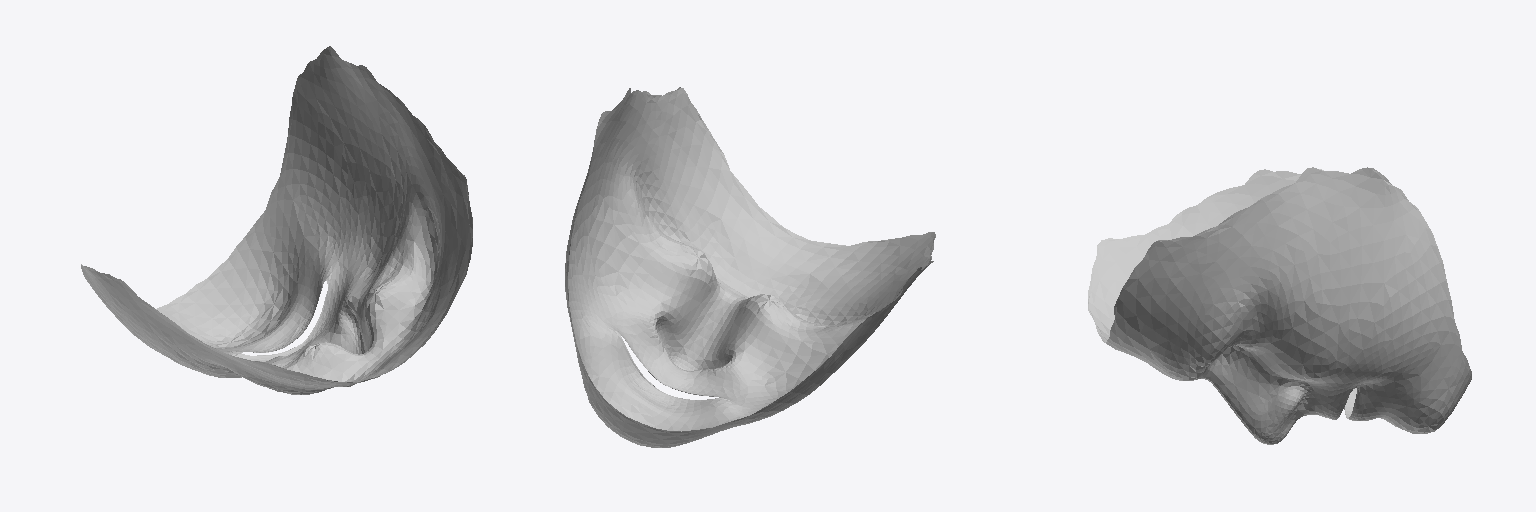
Rendered from face_gab_sfm37.obj.
3 renders of one model, left to right at view 1: azimuth 30°, elevation 25°; view 2: azimuth 150°, elevation 25°; view 3: azimuth 270°, elevation 25°, orthographic.
Size of the model in its own units: 164 by 152 by 178.